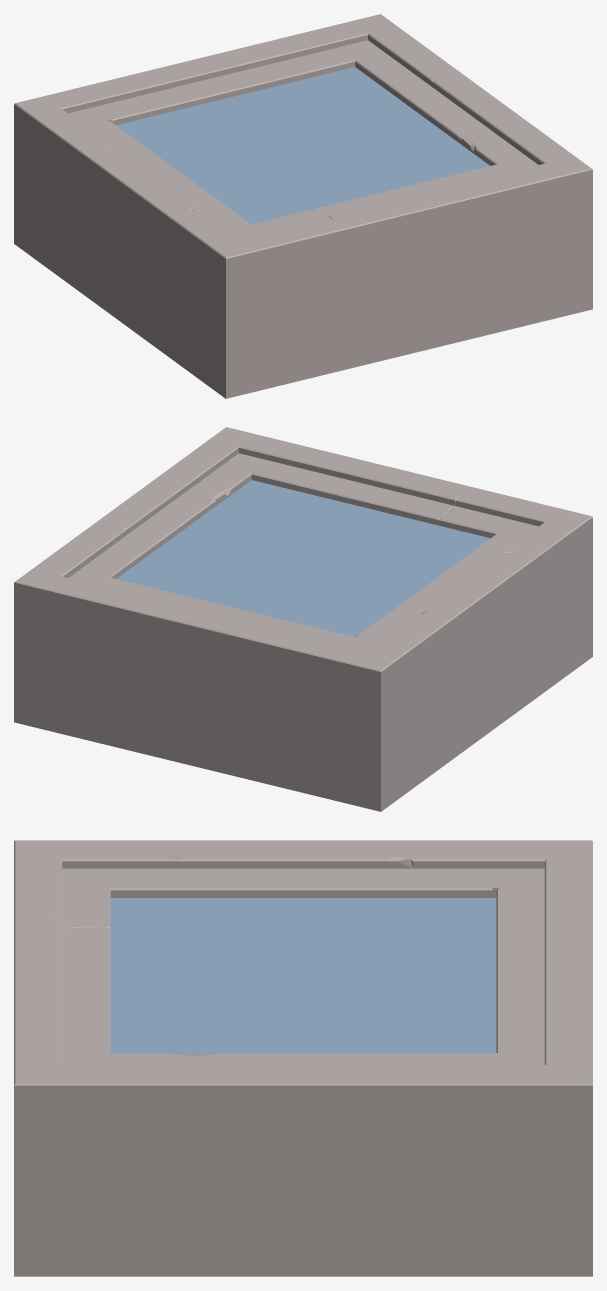
File: greek_pool_1.fbx
The picture shows the model from 3 angles, top to bottom: view 1: azimuth 30°, elevation 25°; view 2: azimuth 150°, elevation 25°; view 3: azimuth 270°, elevation 25°; orthographic projection. The views are drawn at different scales.
Visible parts, largest first — view 1: Cube.031, Plane; view 2: Cube.031, Plane; view 3: Cube.031, Plane.
Part boxes in pixels (left/top/right/bottom): Cube.031: left=14, top=14, right=592, bottom=398; Plane: left=116, top=67, right=489, bottom=224; Cube.031: left=14, top=427, right=592, bottom=811; Plane: left=117, top=480, right=490, bottom=637; Cube.031: left=14, top=840, right=592, bottom=1276; Plane: left=110, top=898, right=496, bottom=1054.
Size of the model in its own units: 600 by 220 by 600.
